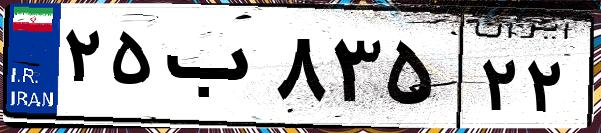2: (57, 26, 110, 100), (475, 38, 525, 113), (525, 38, 570, 115)
3: (330, 28, 385, 110)
5: (385, 28, 445, 110), (110, 28, 158, 98)
8: (270, 28, 330, 110)
ب: (158, 20, 270, 120)
